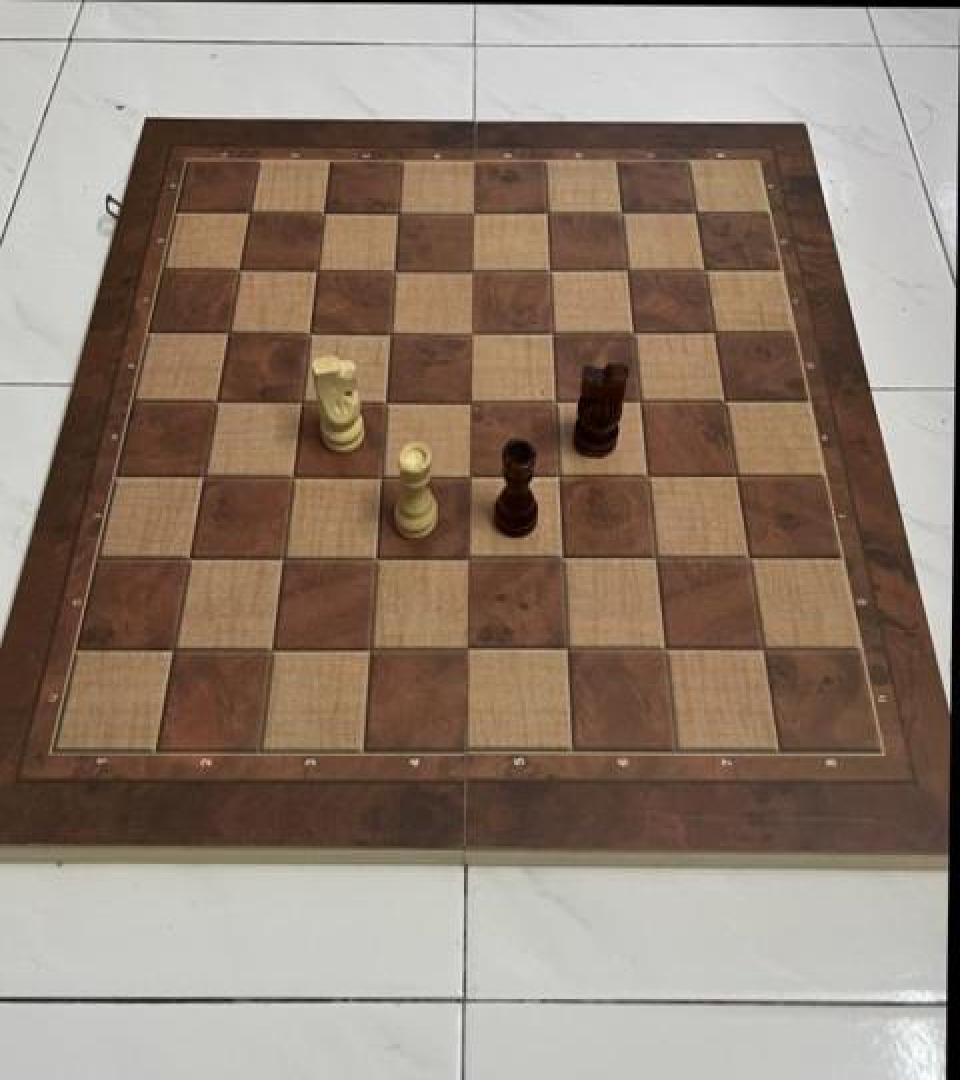xcorner: (679, 194, 713, 232), (604, 194, 638, 232), (530, 195, 564, 233), (455, 195, 489, 233), (381, 195, 415, 233), (306, 195, 340, 233), (232, 195, 266, 233), (688, 251, 722, 289), (610, 251, 644, 289), (532, 251, 566, 289), (455, 251, 489, 289), (377, 252, 411, 290), (299, 252, 333, 290), (222, 252, 256, 290), (698, 313, 732, 351), (616, 313, 650, 351), (535, 313, 569, 351), (454, 314, 488, 352), (373, 314, 407, 352), (292, 314, 326, 352), (211, 314, 245, 352), (708, 380, 742, 418), (623, 382, 657, 420), (538, 382, 572, 420), (454, 382, 488, 420), (369, 382, 403, 420), (284, 382, 318, 420), (199, 382, 233, 420), (720, 456, 754, 494), (631, 456, 665, 494), (542, 456, 576, 494), (453, 456, 487, 494), (364, 457, 398, 495), (275, 457, 309, 495), (186, 457, 220, 495), (734, 538, 768, 576), (640, 538, 674, 576), (546, 538, 580, 576), (452, 539, 486, 577), (359, 539, 393, 577), (265, 539, 299, 577), (171, 539, 205, 577), (748, 629, 782, 667), (649, 629, 683, 667), (550, 630, 584, 668), (451, 630, 485, 668), (353, 630, 387, 668), (254, 630, 288, 668), (155, 631, 189, 669)
